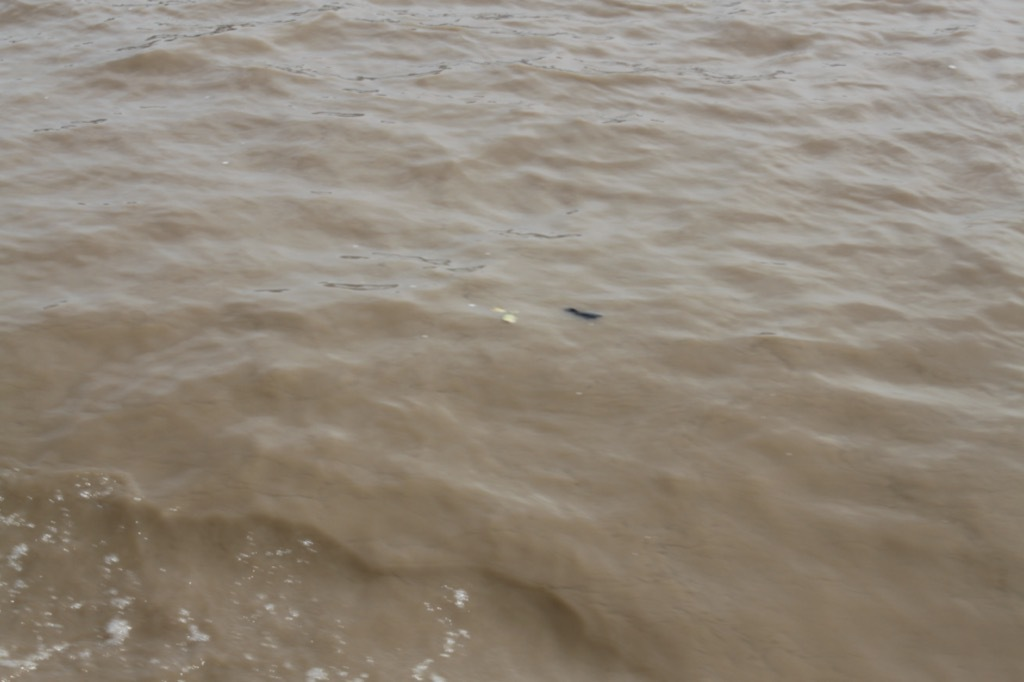organic: (560, 298, 604, 326)
plastic: (487, 299, 512, 319), (499, 309, 522, 329)
